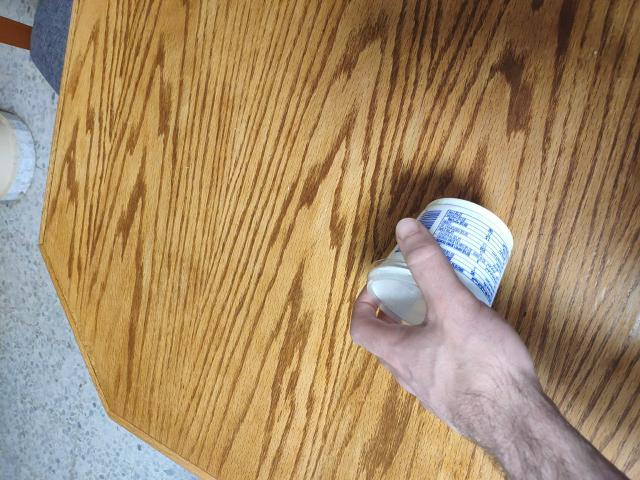cotage: (363, 192, 523, 334)
